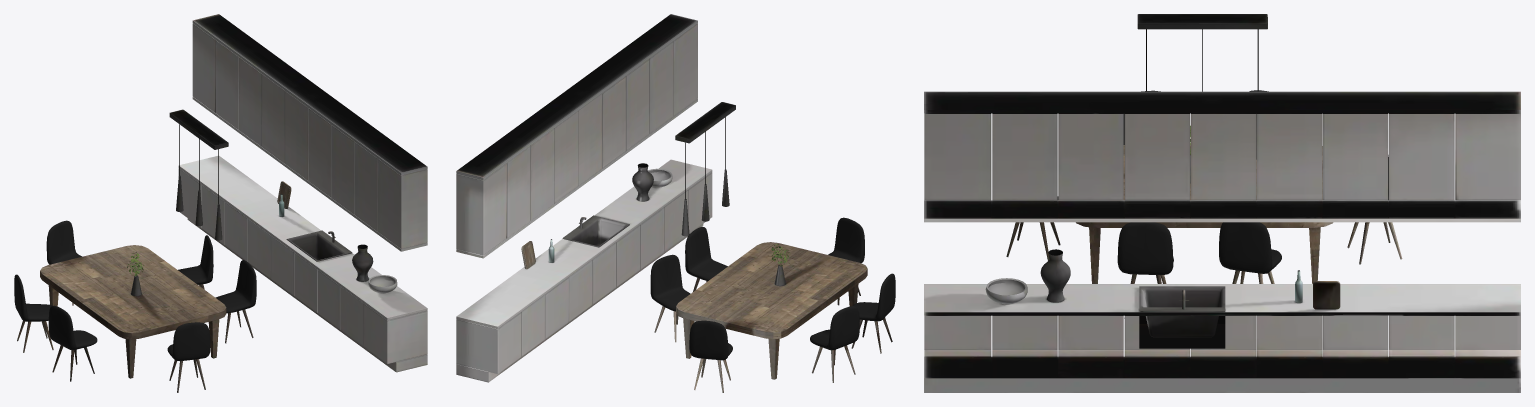
File: prop.gltf
3 renders of one model, left to right at view 1: azimuth 30°, elevation 25°; view 2: azimuth 150°, elevation 25°; view 3: azimuth 270°, elevation 25°, orthographic. The views are drawn at different scales.
Visible parts, largest first — view 1: bottle; view 2: bottle; view 3: bottle.
Part boxes in pixels (left/top/right/bottom): bottle: left=14, top=14, right=427, bottom=392; bottle: left=456, top=14, right=895, bottom=392; bottle: left=924, top=14, right=1520, bottom=392.
Size of the model in its own units: 4.69 by 3.01 by 5.75.
Materials: 7 (6 with a texture image).
